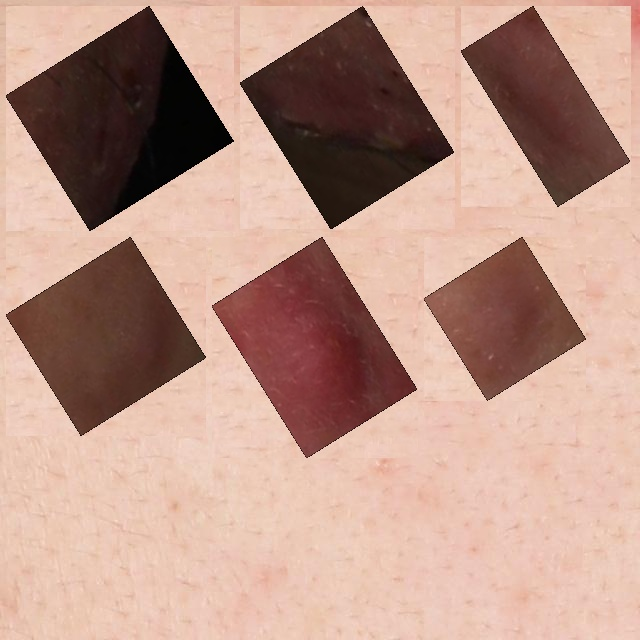nodule: (17, 17, 223, 219), (251, 17, 443, 218), (223, 248, 406, 447), (17, 248, 195, 424), (472, 17, 619, 195), (435, 248, 575, 389)
